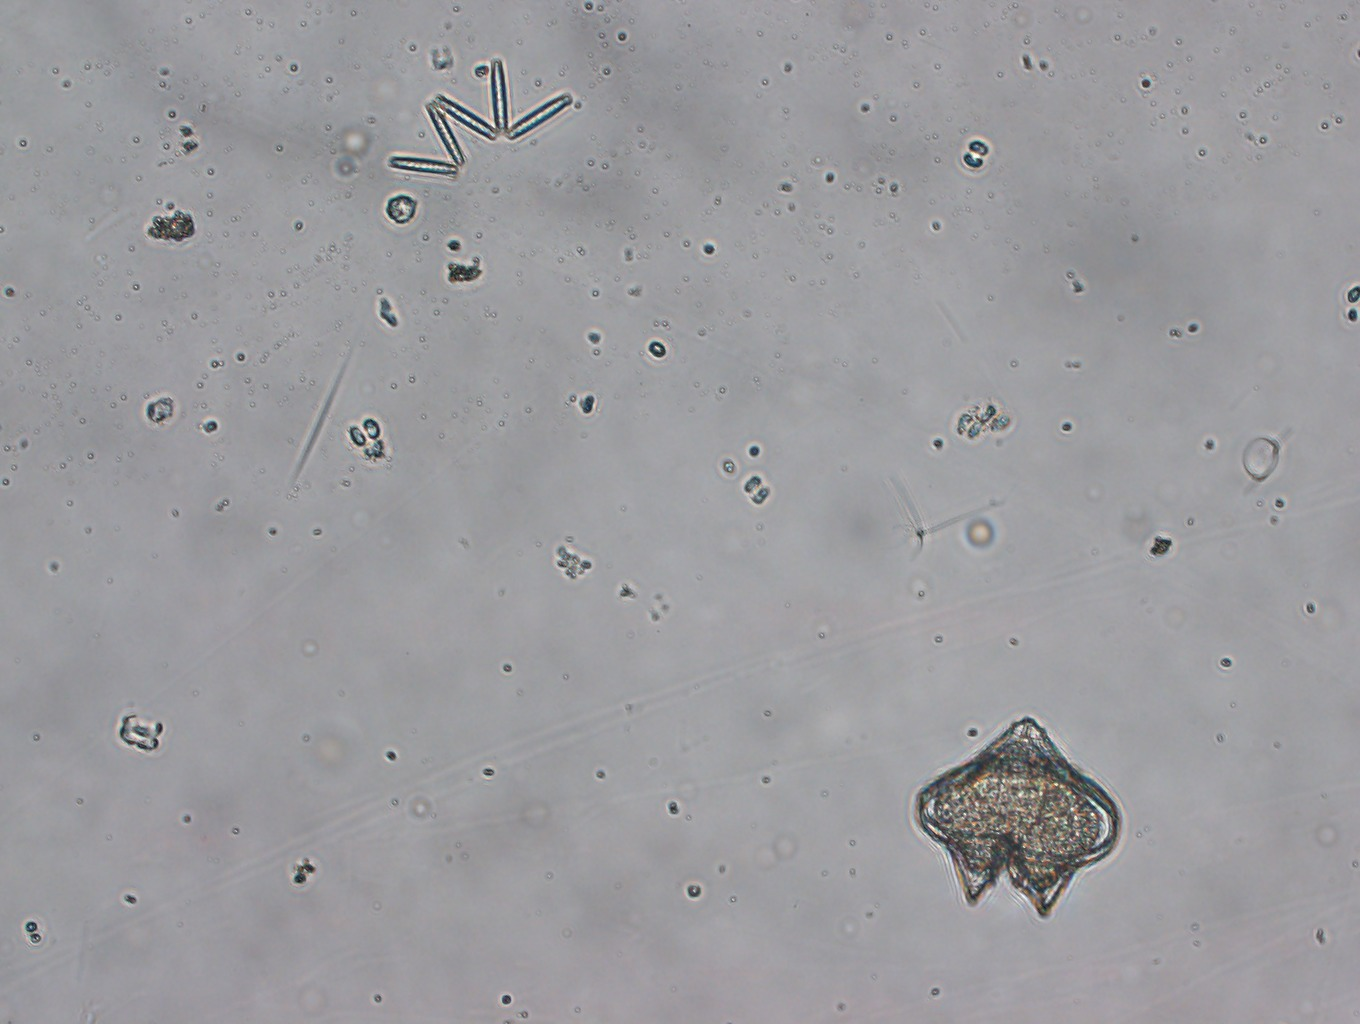protoperidinium: (905, 702, 1130, 927)
thalassionema nitzschioides: (374, 52, 581, 179)
